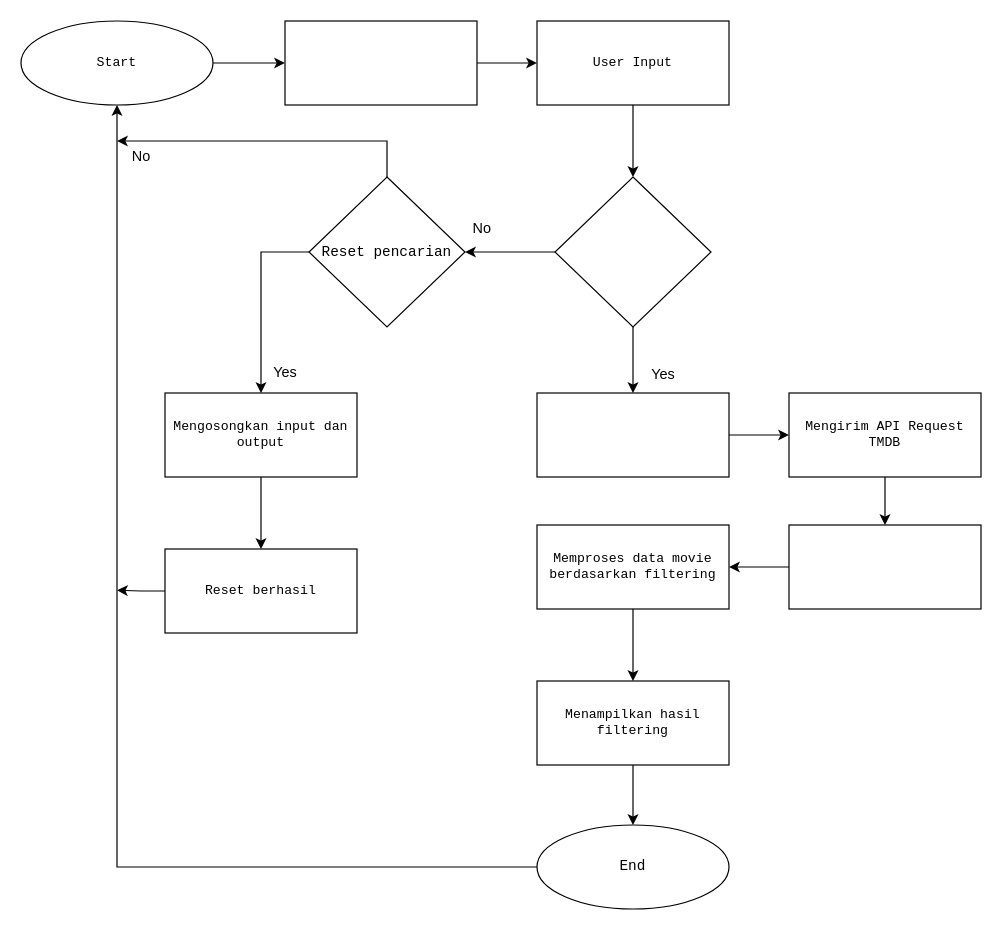
Image size: 1002x930. Some labels were removed from this diagram. Here are the shapes that lost their labels. From the top down, the centre of each, then its label:
At [380,62]: "Inisialisasi GUI".
At [632,251]: "Cari film".
At [632,434]: "validasi input (Aljabar Boolean)".
At [884,566]: "Mengambil data movie dari TMDB".
